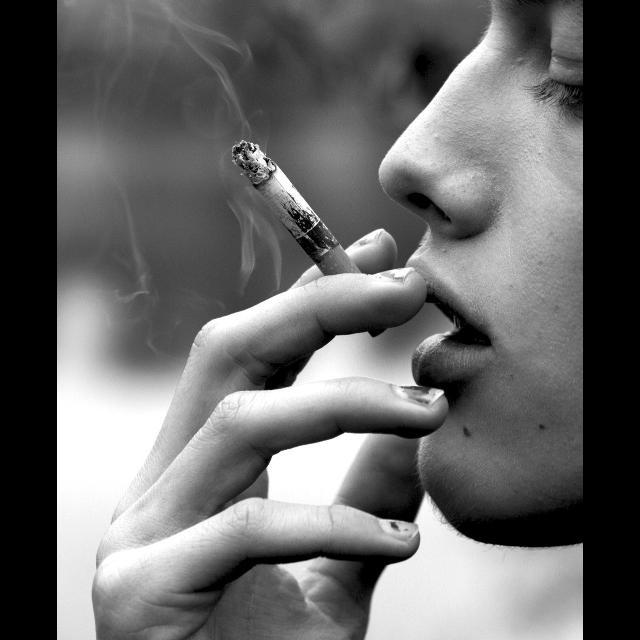rokok: (222, 129, 364, 281)
